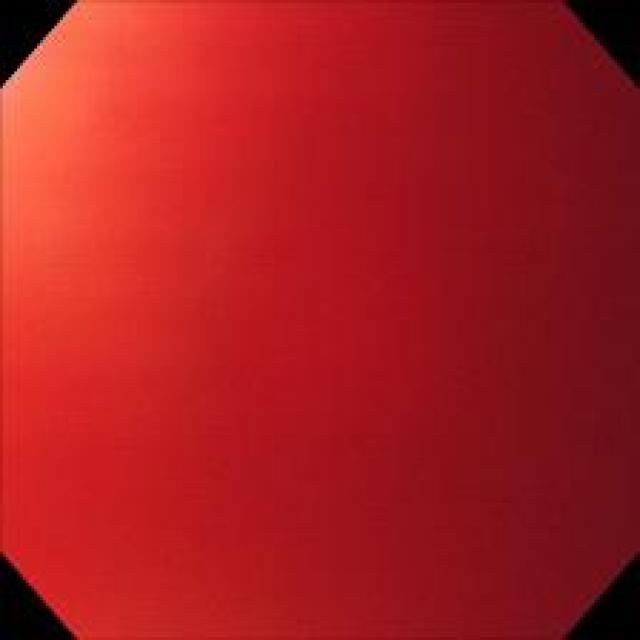color misalignment: (4, 11, 635, 628)
